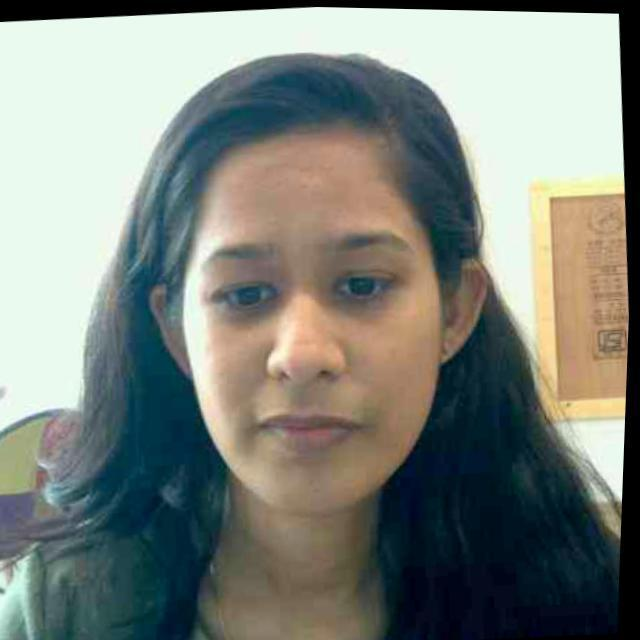puffy_eyes: (231, 294, 284, 324), (331, 292, 393, 317)
